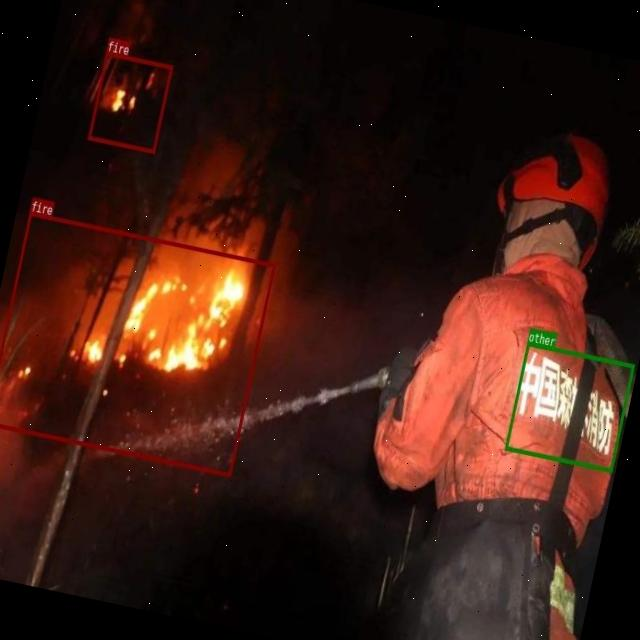fire: (0, 210, 275, 475), (86, 51, 172, 152)
